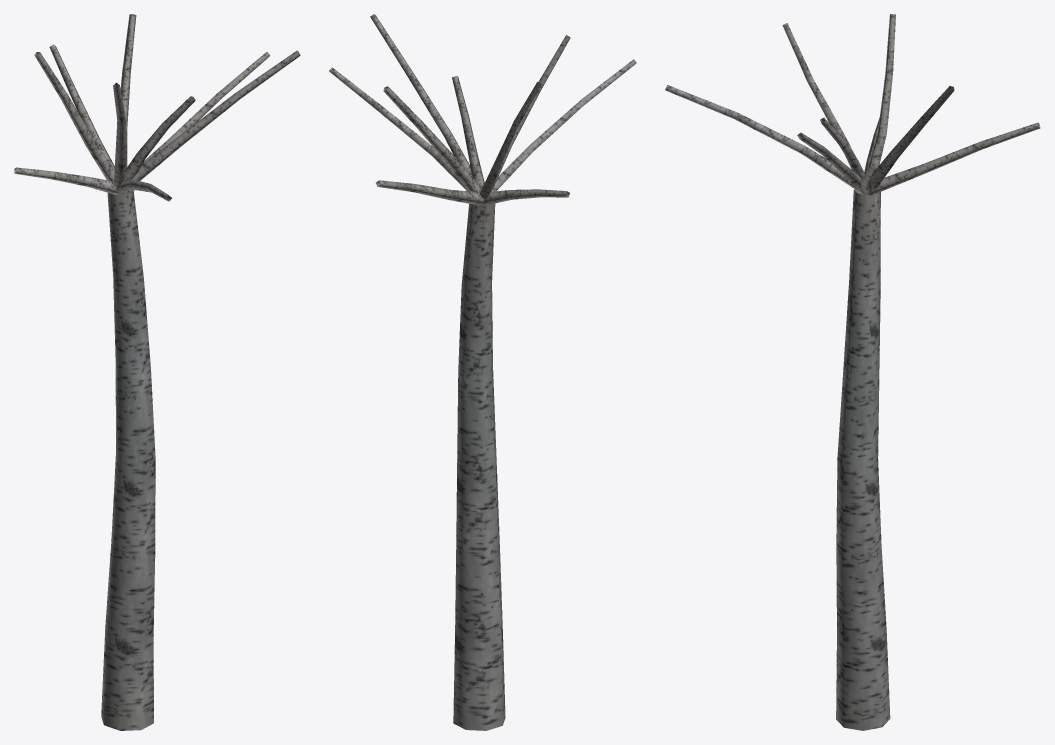
File: bulb_tree_bark_l0.gltf
The picture shows the model from 3 angles, left to right: view 1: azimuth 30°, elevation 25°; view 2: azimuth 150°, elevation 25°; view 3: azimuth 270°, elevation 25°; orthographic projection.
Visible parts, largest first — view 1: bulb_tree_bark_l0; view 2: bulb_tree_bark_l0; view 3: bulb_tree_bark_l0.
Part boxes in pixels (x1,y1,x2,y2): bulb_tree_bark_l0: (14, 14, 300, 730); bulb_tree_bark_l0: (329, 14, 636, 730); bulb_tree_bark_l0: (665, 14, 1040, 730).
Size of the model in its own units: 1.66 by 4.31 by 2.18.
Materials: 1 (1 with a texture image).
